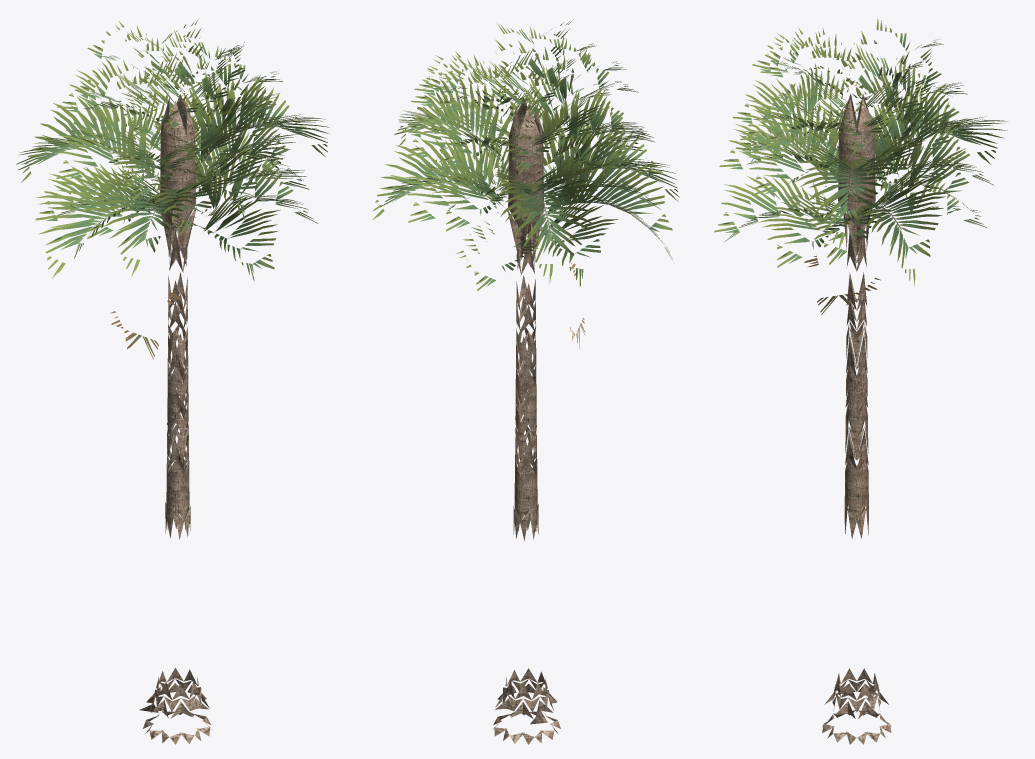
File: ns_palm_lod1.glb
3 renders of one model, left to right at view 1: azimuth 30°, elevation 25°; view 2: azimuth 150°, elevation 25°; view 3: azimuth 270°, elevation 25°, orthographic.
Visible parts, largest first — view 1: ns_palm_lod1; view 2: ns_palm_lod1; view 3: ns_palm_lod1.
Boxes of the visible parts, x1,y1,x2,y2 form: ns_palm_lod1: [16, 19, 330, 744]; ns_palm_lod1: [372, 21, 679, 744]; ns_palm_lod1: [714, 17, 1007, 744].
Bounding box in the file's own units: 3.84 × 8.9 × 3.61.
2 materials, 2 textured.
